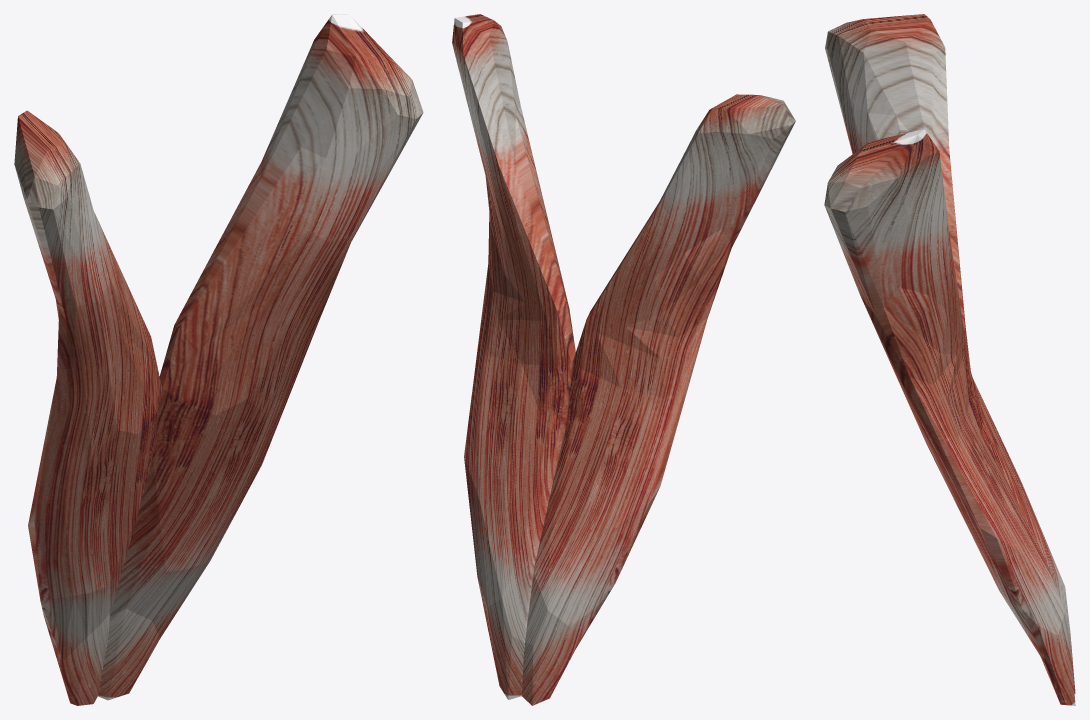
File: Splenius_Capitis.obj
The picture shows the model from 3 angles, left to right: view 1: azimuth 30°, elevation 25°; view 2: azimuth 150°, elevation 25°; view 3: azimuth 270°, elevation 25°; orthographic projection. The views are drawn at different scales.
Parts seen in each view (by area): view 1: Musculos_Cabeza_1:Splenius_Capitis1; view 2: Musculos_Cabeza_1:Splenius_Capitis1; view 3: Musculos_Cabeza_1:Splenius_Capitis1.
Part boxes in pixels (x1=…): Musculos_Cabeza_1:Splenius_Capitis1: x1=14, y1=14, x2=423, y2=705; Musculos_Cabeza_1:Splenius_Capitis1: x1=452, y1=14, x2=795, y2=705; Musculos_Cabeza_1:Splenius_Capitis1: x1=824, y1=14, x2=1075, y2=705.
Bounding box in the file's own units: 0.4773 × 0.8331 × 0.2975.
1 material, 1 textured.
